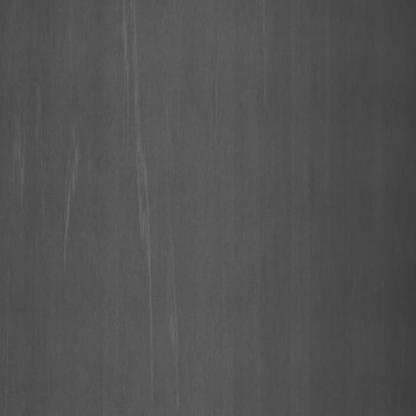silk_spot: (128, 112, 166, 301), (53, 120, 91, 256), (111, 12, 144, 102), (12, 90, 38, 196)
